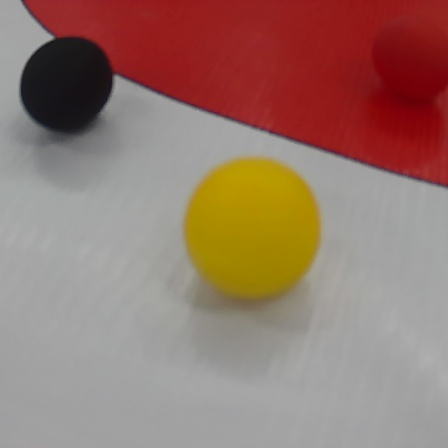black: (19, 34, 113, 136)
red: (374, 17, 446, 104)
red_base: (22, 0, 446, 190)
yellow: (182, 151, 323, 305)
